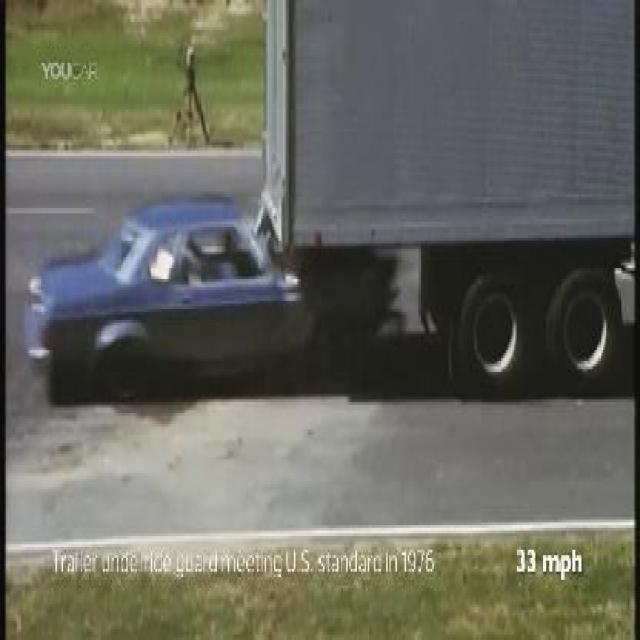accident: (16, 0, 638, 410)
